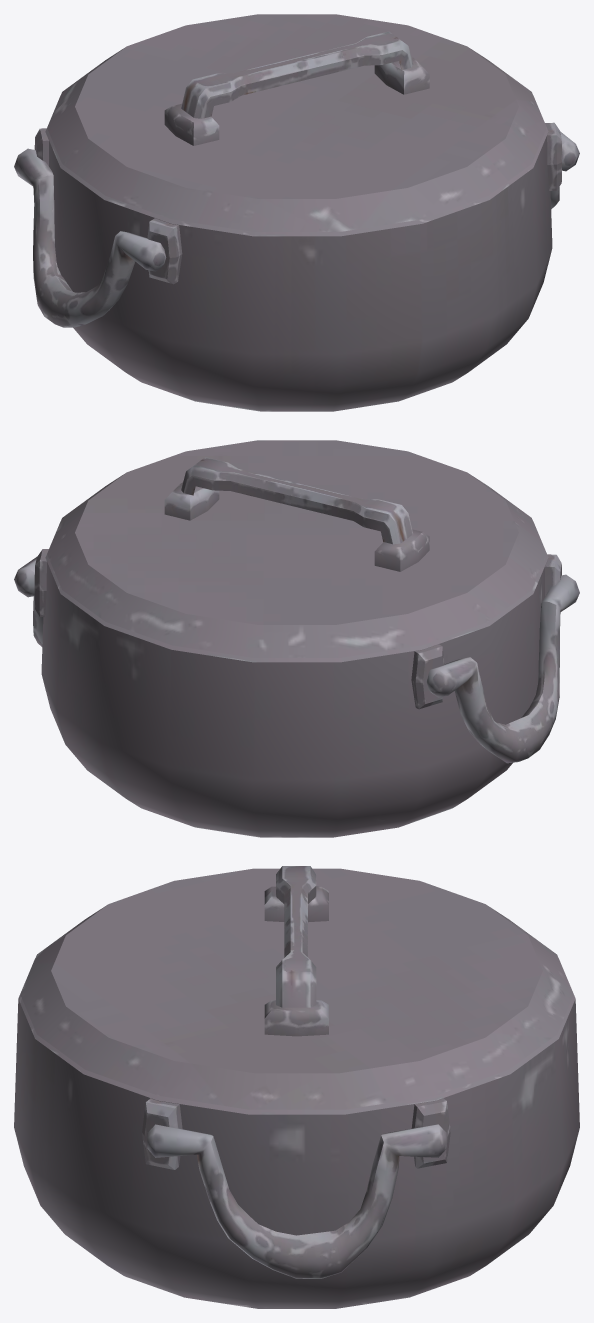
Rendered from Pot_1_Lid.glb.
The picture shows the model from 3 angles, top to bottom: view 1: azimuth 30°, elevation 25°; view 2: azimuth 150°, elevation 25°; view 3: azimuth 270°, elevation 25°; orthographic projection. The views are drawn at different scales.
Visible parts, largest first — view 1: Pot_1_Lid; view 2: Pot_1_Lid; view 3: Pot_1_Lid.
Part boxes in pixels (left/top/right/bottom): Pot_1_Lid: left=14, top=14, right=579, bottom=411; Pot_1_Lid: left=14, top=440, right=579, bottom=837; Pot_1_Lid: left=14, top=866, right=579, bottom=1308.
Size of the model in its own units: 0.5393 by 0.2805 by 0.4861.
1 material, 1 textured.
